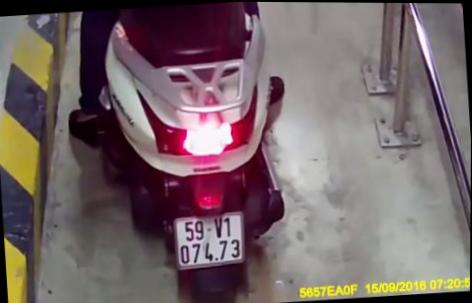LP: (171, 209, 248, 270)
